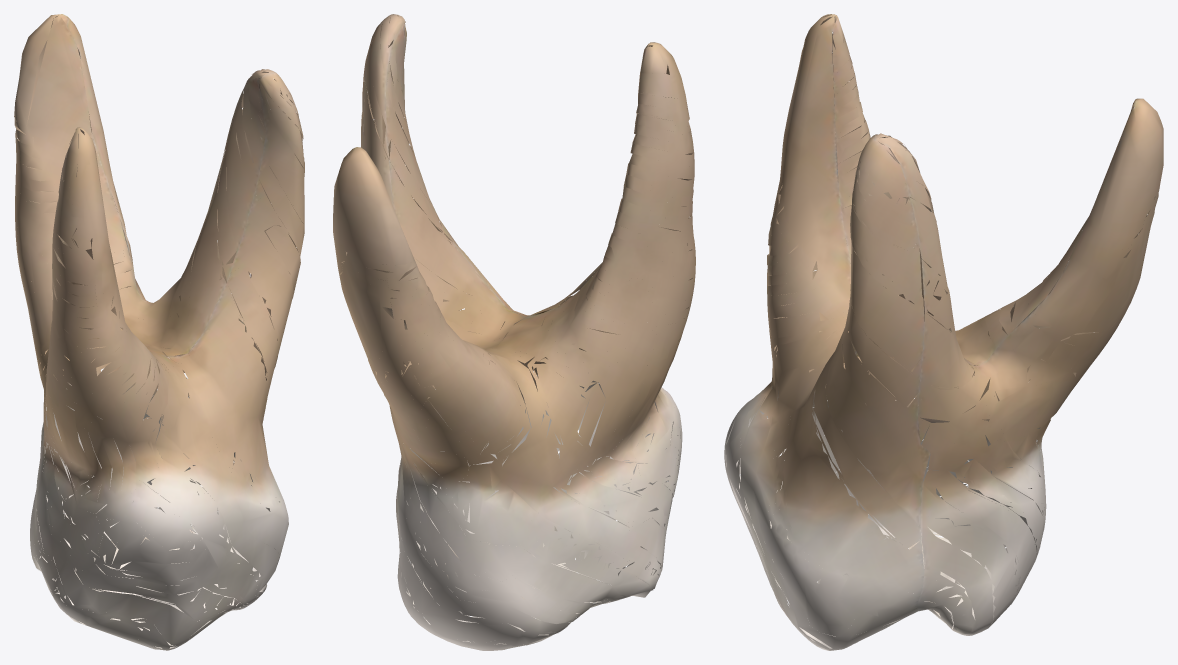
File: primary_upper_left_first_molar_fdi_64.glb
3 views of the same model, side by side, from view 1: azimuth 30°, elevation 25°; view 2: azimuth 150°, elevation 25°; view 3: azimuth 270°, elevation 25° (orthographic). The views are drawn at different scales.
Visible parts, largest first — view 1: Object_3, Object_5, Object_7, Object_6, Object_4, Object_8; view 2: Object_5, Object_6, Object_4, Object_3, Object_8, Object_7; view 3: Object_5, Object_7, Object_3, Object_6, Object_4, Object_8.
Part boxes in pixels (x1,y1,x2,y2): Object_3: (14, 15, 266, 650); Object_5: (17, 76, 304, 649); Object_7: (38, 69, 304, 637); Object_6: (14, 14, 287, 650); Object_4: (30, 69, 304, 650); Object_8: (15, 110, 240, 577); Object_5: (339, 24, 694, 603); Object_6: (333, 147, 665, 632); Object_4: (361, 14, 677, 650); Object_3: (362, 42, 695, 650); Object_8: (340, 43, 695, 495); Object_7: (361, 14, 686, 644); Object_5: (753, 16, 1158, 636); Object_7: (726, 14, 1038, 650); Object_3: (724, 14, 1147, 650); Object_6: (740, 98, 1163, 648); Object_4: (734, 134, 1124, 635); Object_8: (724, 16, 1159, 568).
Size of the model in its own units: 4.43 by 8.35 by 5.91.
Materials: 1 (1 with a texture image).
